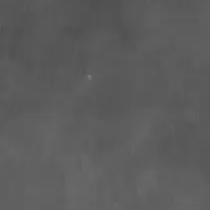Target: (89, 76, 91, 79)
